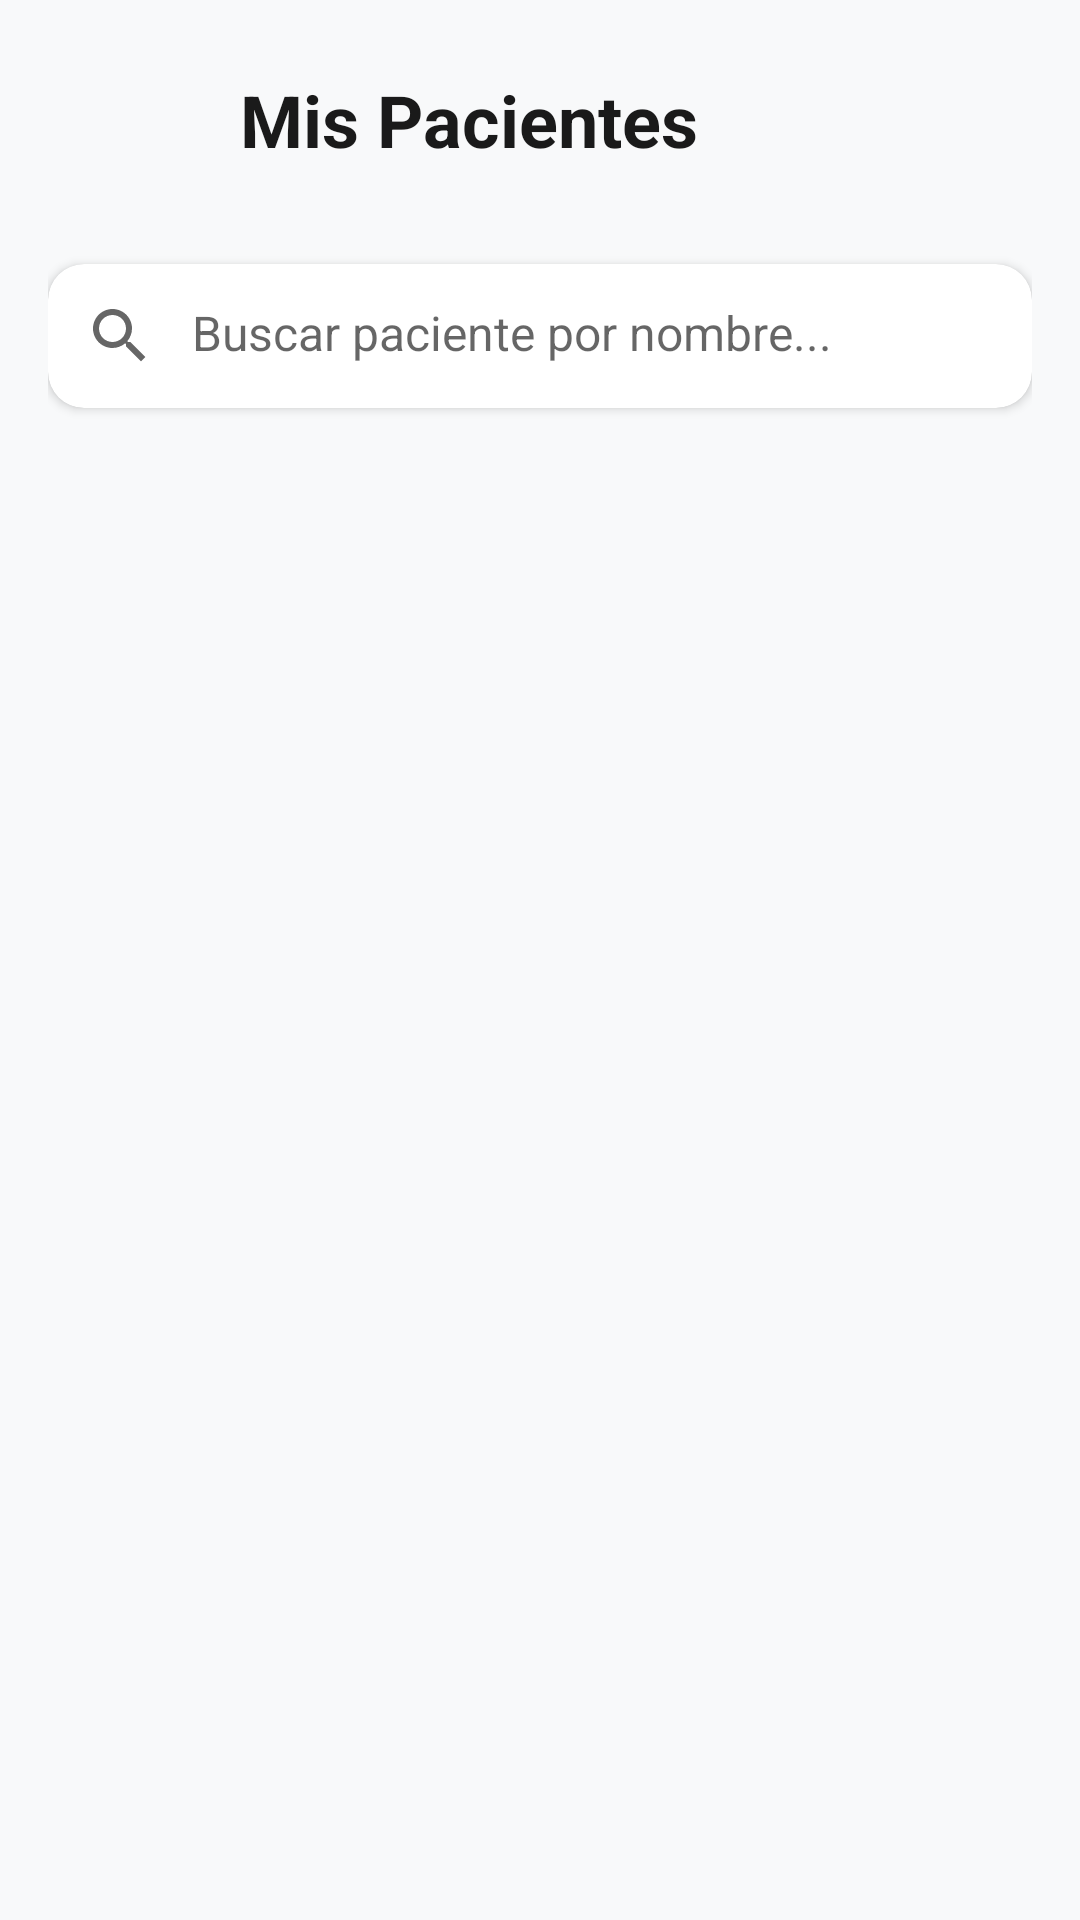

Locate icon controls on the screen. Image size 1080*1920, boxes as {"left": x1, "top": y1, "right": x2, "bottom": y2}.
search: {"left": 93, "top": 309, "right": 145, "bottom": 361}
